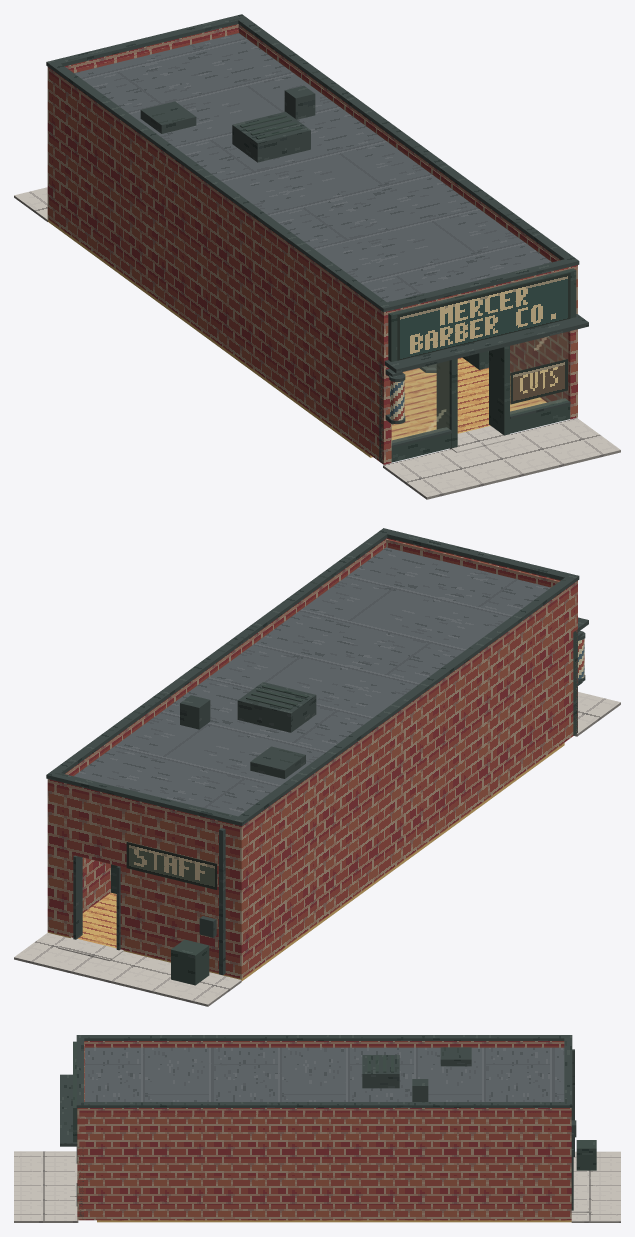
The model's file is barber-2010-far.glb.
3 views of the same model, one above another, from view 1: azimuth 30°, elevation 25°; view 2: azimuth 150°, elevation 25°; view 3: azimuth 270°, elevation 25° (orthographic). The views are drawn at different scales.
Visible parts, largest first — view 1: shell, lot, sign_name, fixed_interior, sign_shop_window; view 2: shell, lot, fixed_interior, sign_staff; view 3: shell, lot, fixed_interior.
Part boxes in pixels (x1,y1,x2,y2): shell: (46, 14, 588, 464); lot: (14, 187, 620, 499); sign_name: (397, 273, 570, 360); fixed_interior: (47, 219, 546, 457); sign_shop_window: (510, 359, 567, 404); shell: (46, 528, 588, 978); lot: (14, 692, 620, 1006); fixed_interior: (47, 743, 564, 981); sign_staff: (126, 842, 216, 889); shell: (60, 1035, 591, 1220); lot: (14, 1140, 620, 1222); fixed_interior: (97, 1220, 571, 1222).
Size of what is drawn, in the model's own units: 6.05 by 4.99 by 22.1.
11 materials, 11 textured.
